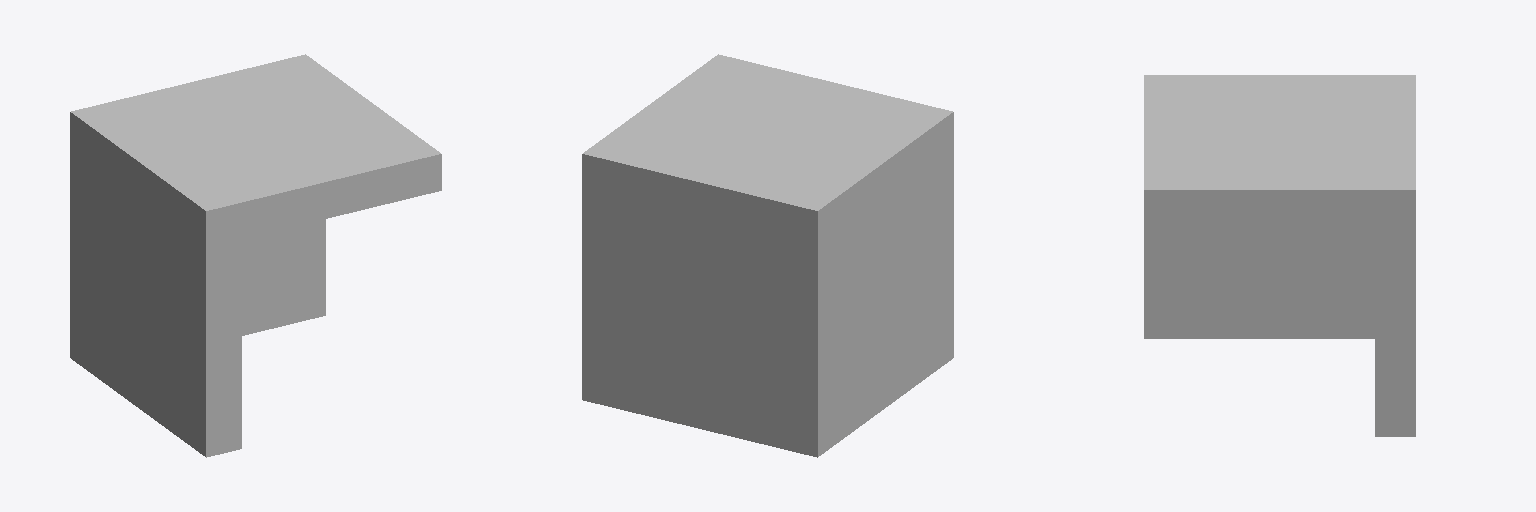
The model's file is hs_corner_top.obj.
3 views of the same model, side by side, from view 1: azimuth 30°, elevation 25°; view 2: azimuth 150°, elevation 25°; view 3: azimuth 270°, elevation 25° (orthographic).
Visible parts, largest first — view 1: corner_top_Cube.002; view 2: corner_top_Cube.002; view 3: corner_top_Cube.002.
Boxes of the visible parts, <box> form: corner_top_Cube.002: <box>70,54,441,457</box>; corner_top_Cube.002: <box>582,54,953,457</box>; corner_top_Cube.002: <box>1144,75,1415,436</box>.
Bounding box in the file's own units: 2 × 2 × 2.